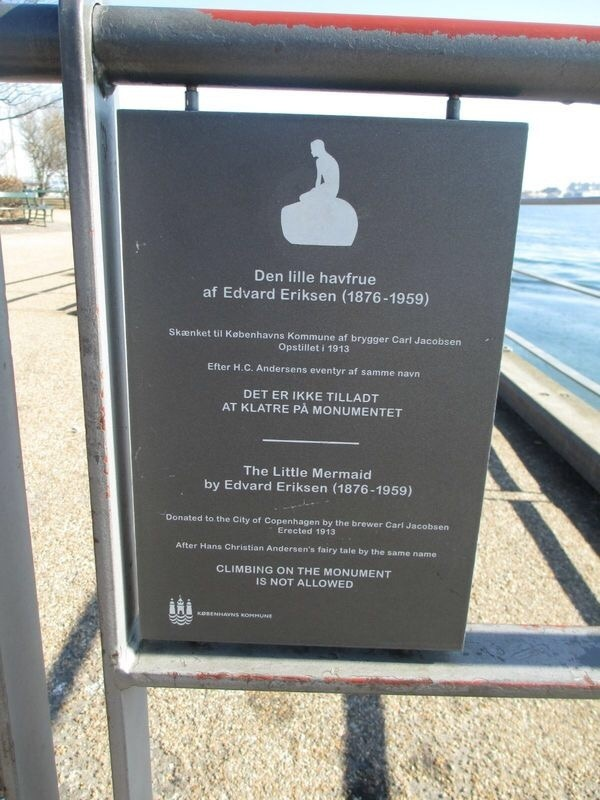text: (353, 289, 368, 307), (369, 289, 384, 307), (385, 289, 400, 307), (401, 289, 416, 307), (257, 269, 272, 284), (321, 271, 336, 286), (337, 271, 352, 286), (353, 271, 368, 286), (289, 288, 304, 303), (305, 288, 320, 303), (321, 288, 336, 303), (273, 464, 288, 479), (289, 464, 304, 479), (337, 483, 352, 498), (353, 483, 368, 498), (369, 483, 384, 498), (385, 483, 400, 498), (273, 402, 289, 416), (417, 289, 429, 307), (225, 286, 240, 300), (241, 286, 256, 300), (257, 286, 272, 300), (241, 402, 256, 416), (257, 402, 272, 416), (321, 406, 336, 420), (337, 406, 352, 420), (353, 406, 368, 420), (369, 406, 384, 420), (385, 406, 400, 420), (289, 271, 304, 284), (337, 392, 352, 405), (353, 392, 368, 405), (342, 289, 352, 307), (273, 390, 288, 402), (321, 469, 336, 481), (337, 469, 352, 481), (353, 469, 368, 481), (225, 481, 240, 493), (241, 481, 256, 493), (257, 481, 272, 493), (289, 483, 304, 495), (305, 483, 320, 495), (401, 483, 413, 498), (209, 477, 220, 493), (305, 567, 321, 578), (243, 464, 256, 477), (273, 269, 284, 284), (289, 332, 304, 343), (305, 332, 320, 343), (321, 332, 336, 343), (353, 334, 368, 345), (369, 334, 384, 345), (417, 336, 432, 347), (433, 336, 448, 347), (209, 362, 224, 373), (321, 367, 336, 378), (273, 518, 288, 529), (289, 518, 304, 529), (305, 518, 320, 529), (225, 565, 240, 576), (241, 565, 256, 576), (257, 565, 272, 576), (337, 569, 352, 580), (353, 569, 368, 580), (369, 569, 384, 580), (257, 578, 272, 589), (273, 578, 288, 589), (305, 579, 320, 590), (321, 579, 336, 590), (337, 579, 352, 590), (257, 464, 269, 477), (177, 328, 192, 338), (193, 328, 208, 338), (241, 329, 256, 339), (257, 329, 272, 339), (305, 392, 320, 402), (177, 513, 192, 523), (417, 523, 432, 533), (433, 523, 448, 533), (273, 545, 288, 555), (289, 545, 304, 555), (321, 547, 336, 557), (449, 336, 462, 347), (369, 392, 380, 405), (225, 402, 238, 413), (273, 365, 288, 374), (289, 365, 304, 374), (353, 521, 368, 530), (369, 521, 384, 530), (321, 528, 336, 537), (244, 389, 256, 400), (257, 389, 269, 400), (277, 483, 288, 495), (305, 271, 315, 284), (227, 329, 240, 339), (326, 392, 336, 405), (323, 520, 336, 530), (339, 548, 352, 558), (371, 548, 384, 558), (257, 612, 273, 620), (258, 365, 272, 374), (325, 569, 336, 580), (273, 329, 285, 339), (369, 370, 384, 378), (401, 371, 416, 379), (294, 404, 304, 416), (289, 527, 304, 535), (177, 543, 192, 551), (241, 544, 256, 552), (417, 551, 432, 559), (209, 612, 224, 620), (225, 612, 240, 620), (241, 612, 256, 620), (209, 286, 218, 299), (339, 334, 352, 343), (241, 363, 254, 372), (337, 520, 350, 529), (386, 522, 400, 530), (209, 543, 223, 551), (226, 544, 240, 552), (310, 367, 320, 378), (293, 392, 304, 402), (165, 513, 176, 523), (241, 516, 251, 527), (305, 545, 316, 555), (369, 271, 376, 286), (281, 288, 288, 303), (401, 336, 412, 345), (337, 367, 346, 378), (313, 406, 320, 420), (388, 551, 400, 559), (214, 330, 224, 339), (193, 513, 202, 523), (407, 523, 416, 533), (385, 370, 396, 378), (401, 551, 412, 559), (277, 568, 288, 576), (385, 569, 393, 580), (313, 469, 320, 481), (321, 483, 328, 495), (359, 549, 368, 558), (198, 612, 208, 620), (225, 362, 232, 373), (233, 516, 240, 527), (265, 518, 272, 529), (217, 565, 224, 576), (289, 578, 296, 589), (297, 579, 304, 590), (279, 527, 288, 535), (385, 334, 391, 345), (298, 567, 304, 578), (203, 286, 208, 299), (305, 527, 313, 535), (200, 543, 208, 551), (257, 544, 265, 552), (393, 336, 400, 345), (233, 363, 240, 372), (170, 328, 176, 338), (332, 483, 336, 498), (216, 516, 224, 523), (257, 517, 262, 527), (267, 545, 272, 555), (362, 370, 368, 378), (305, 404, 309, 416), (205, 477, 208, 493), (289, 568, 295, 576), (305, 464, 308, 479), (220, 402, 224, 413), (225, 516, 231, 523), (433, 551, 438, 559), (369, 469, 372, 481), (316, 528, 320, 537), (209, 516, 214, 523), (401, 522, 405, 530), (193, 543, 197, 551), (253, 517, 256, 527), (353, 548, 356, 558), (273, 286, 275, 300), (401, 406, 403, 420), (305, 365, 308, 374), (417, 371, 420, 379), (414, 336, 416, 347), (209, 328, 211, 338), (337, 547, 339, 557), (334, 520, 336, 529), (398, 371, 400, 379), (414, 551, 416, 559), (255, 269, 256, 284), (206, 516, 208, 523), (207, 362, 208, 373), (273, 565, 274, 576), (271, 578, 272, 589), (353, 579, 354, 590), (321, 392, 322, 402), (449, 523, 450, 533), (319, 547, 320, 557)
